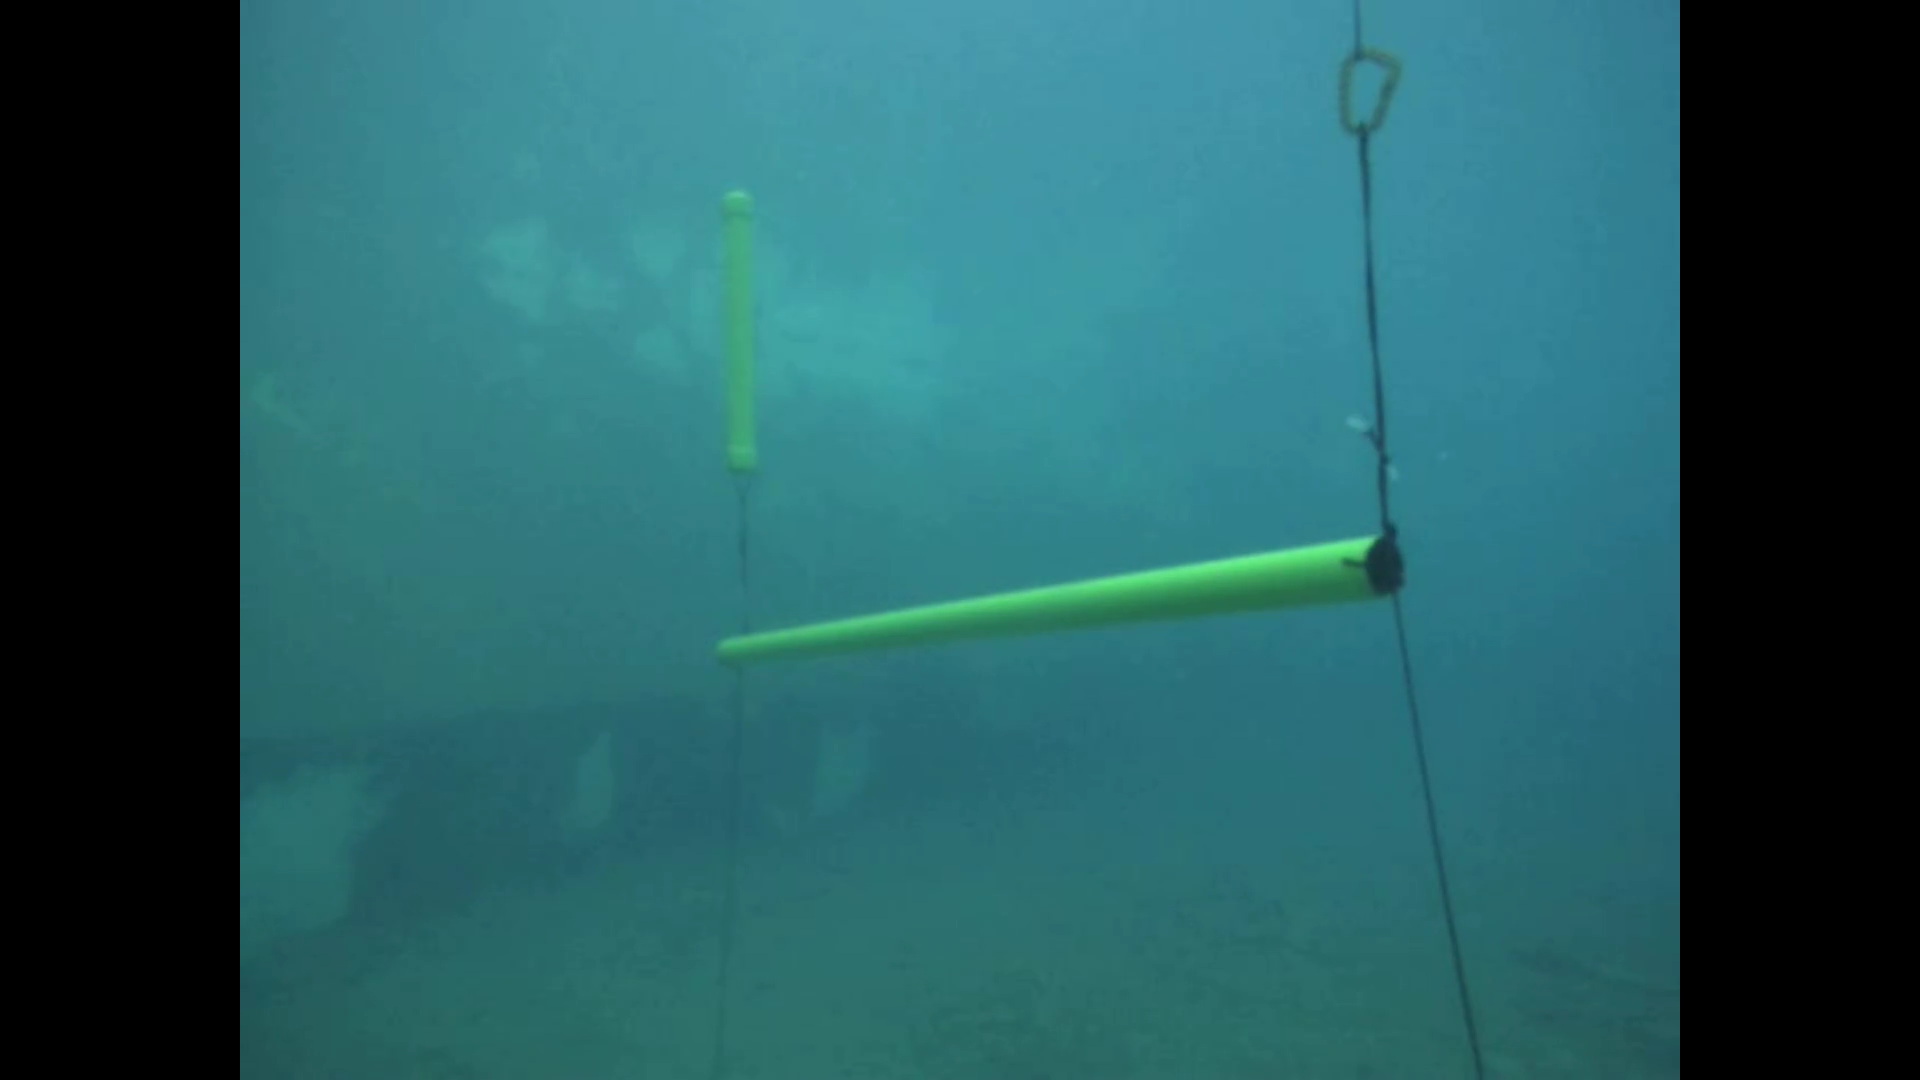gate: (698, 179, 1414, 665)
